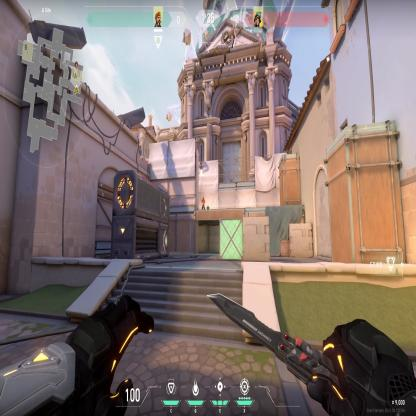enemy: (201, 195, 205, 210)
